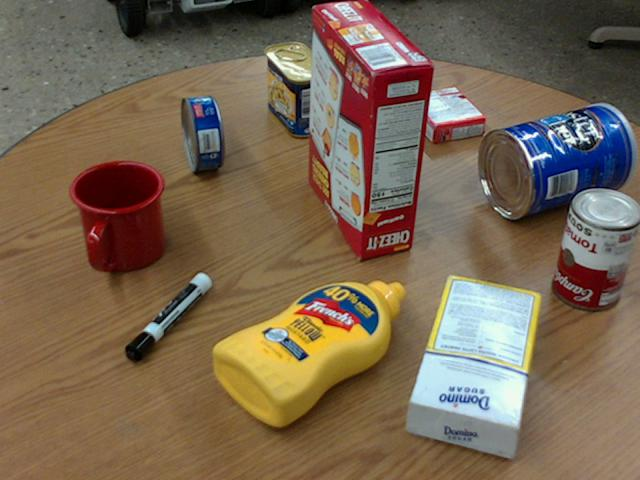cracker_box: (306, 0, 432, 258)
gelatin_box: (404, 86, 484, 143)
large_marker: (124, 272, 210, 360)
master_chef_can: (477, 102, 634, 218)
mug: (69, 161, 164, 272)
mustard_bottle: (211, 280, 404, 427)
potted_meat_can: (263, 42, 329, 136)
sugar_box: (405, 274, 541, 457)
tomato_soup_can: (552, 185, 639, 307)
tuna_fish_can: (181, 96, 222, 170)
